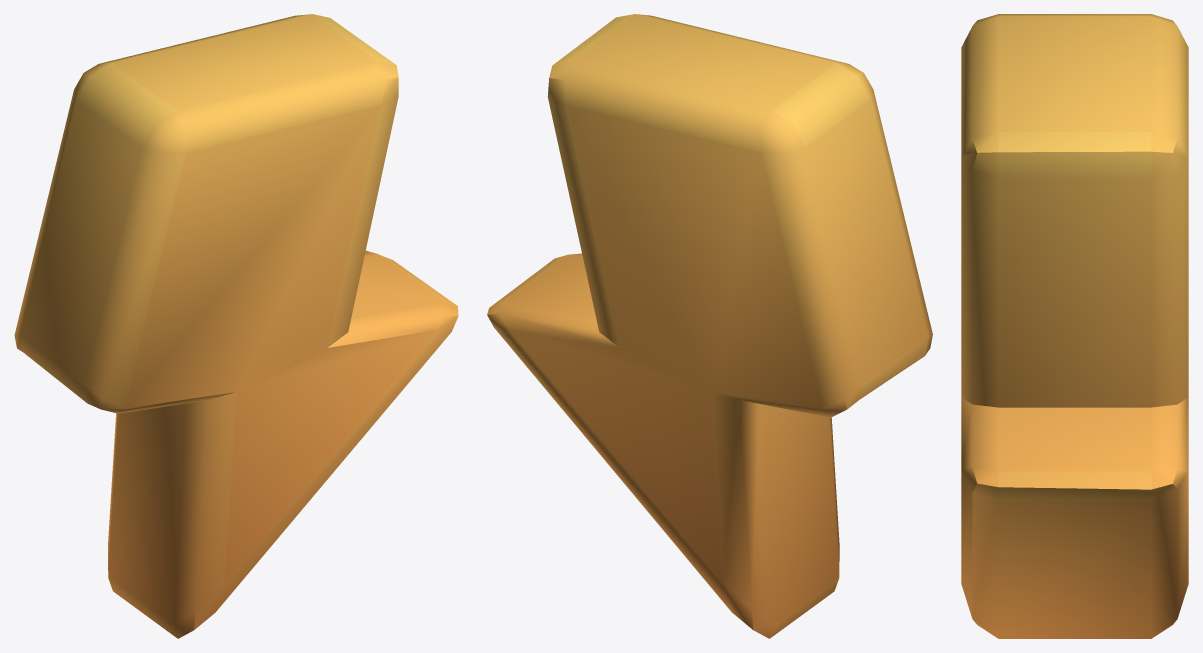
Rendered from power-up.glb.
3 renders of one model, left to right at view 1: azimuth 30°, elevation 25°; view 2: azimuth 150°, elevation 25°; view 3: azimuth 270°, elevation 25°, orthographic. The views are drawn at different scales.
Parts seen in each view (by area): view 1: power_yellow; view 2: power_yellow; view 3: power_yellow.
Part boxes in pixels (x1,y1,x2,y2): power_yellow: (14,14,458,638); power_yellow: (487,14,932,638); power_yellow: (961,14,1188,638).
Size of the model in its own units: 0.8907 by 1.2 by 0.4.
1 material, 1 textured.
